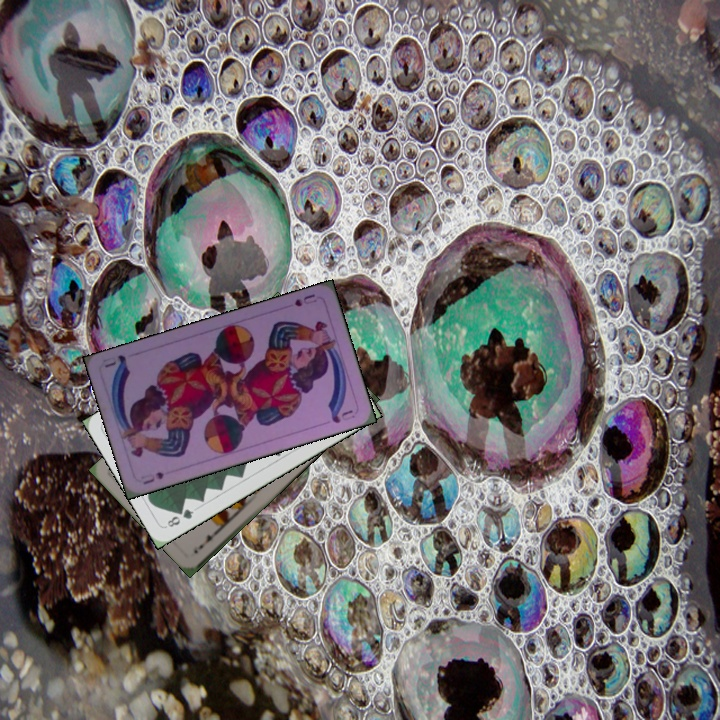E7: (194, 525, 222, 552)
G8: (163, 505, 197, 530)
SU: (137, 468, 167, 487), (291, 289, 319, 309)
